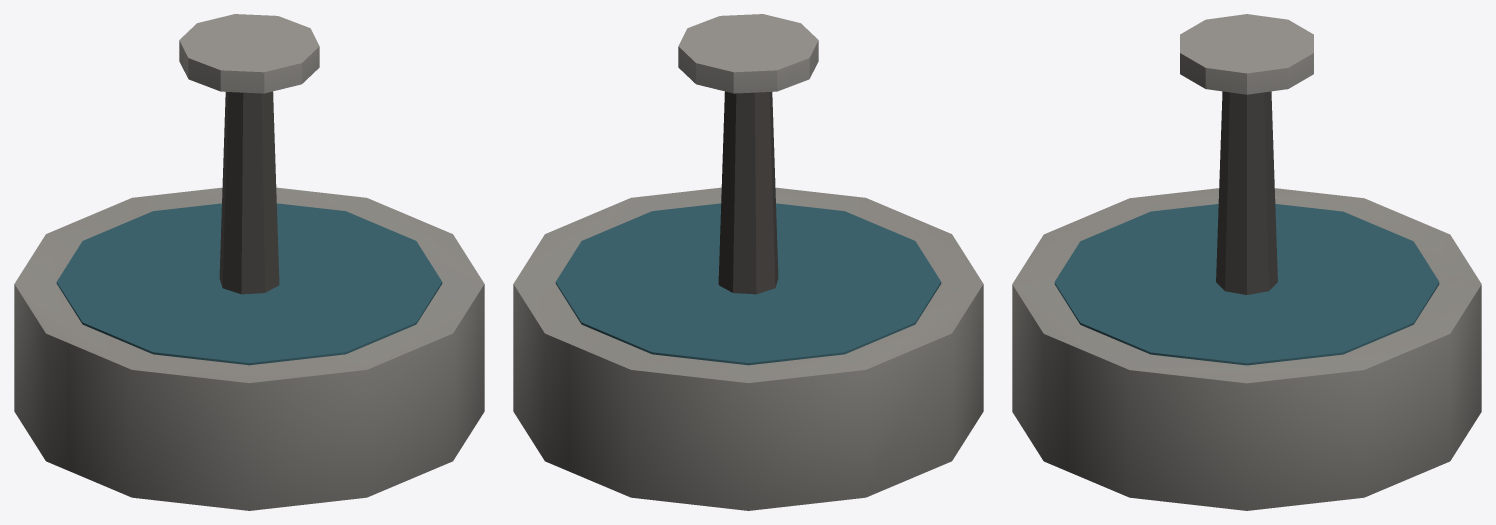
File: brunnen.glb
3 views of the same model, side by side, from view 1: azimuth 30°, elevation 25°; view 2: azimuth 150°, elevation 25°; view 3: azimuth 270°, elevation 25° (orthographic).
Parts seen in each view (by area): view 1: lack, glas; view 2: lack, glas; view 3: lack, glas.
Boxes of the visible parts, left/top/right/bottom form: lack: left=14, top=14, right=484, bottom=510; glas: left=56, top=203, right=442, bottom=365; lack: left=513, top=14, right=983, bottom=510; glas: left=555, top=203, right=941, bottom=365; lack: left=1012, top=14, right=1481, bottom=510; glas: left=1054, top=204, right=1439, bottom=365.
Bounding box in the file's own units: 2 × 1.73 × 2.
